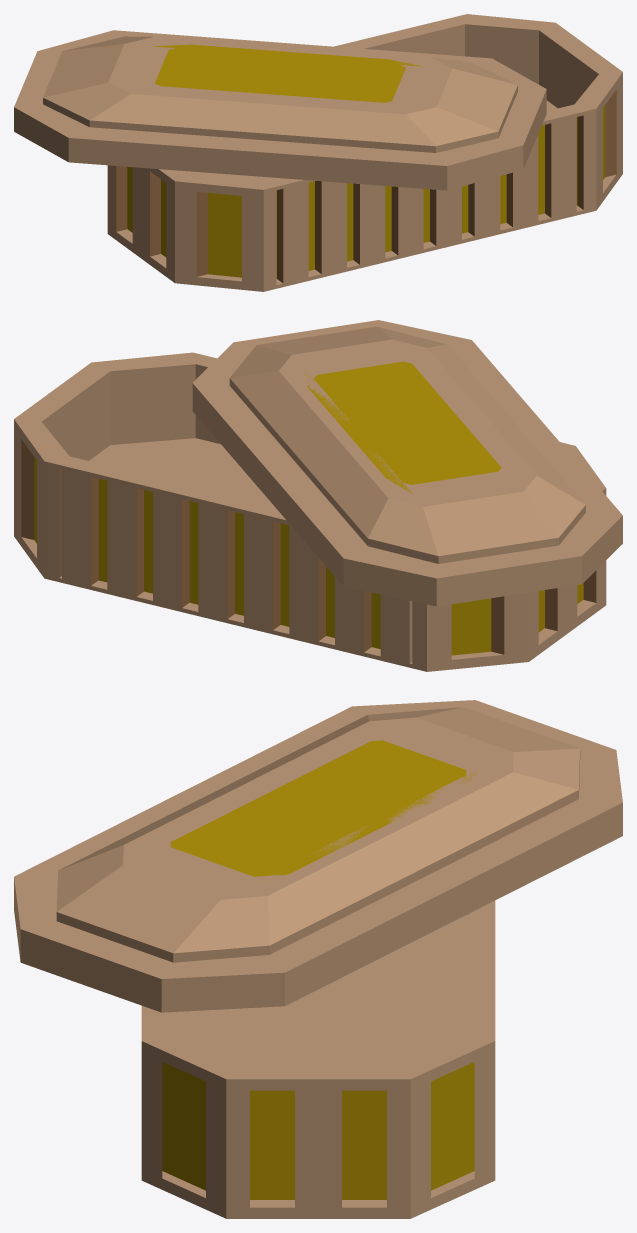
The model's file is sarcophagus.glb.
3 renders of one model, top to bottom at view 1: azimuth 30°, elevation 25°; view 2: azimuth 150°, elevation 25°; view 3: azimuth 270°, elevation 25°, orthographic. The views are drawn at different scales.
Parts seen in each view (by area): view 1: Bottom-col, Top-col; view 2: Bottom-col, Top-col; view 3: Bottom-col, Top-col.
Part boxes in pixels (x1,y1,x2,y2): Bottom-col: [14, 30, 546, 190]; Top-col: [107, 14, 622, 291]; Bottom-col: [192, 320, 622, 606]; Top-col: [14, 352, 606, 671]; Bottom-col: [14, 700, 622, 1012]; Top-col: [141, 900, 495, 1218].
Bounding box in the file's own units: 4.63 × 1.27 × 3.44.
Materials: 1 (1 with a texture image).
